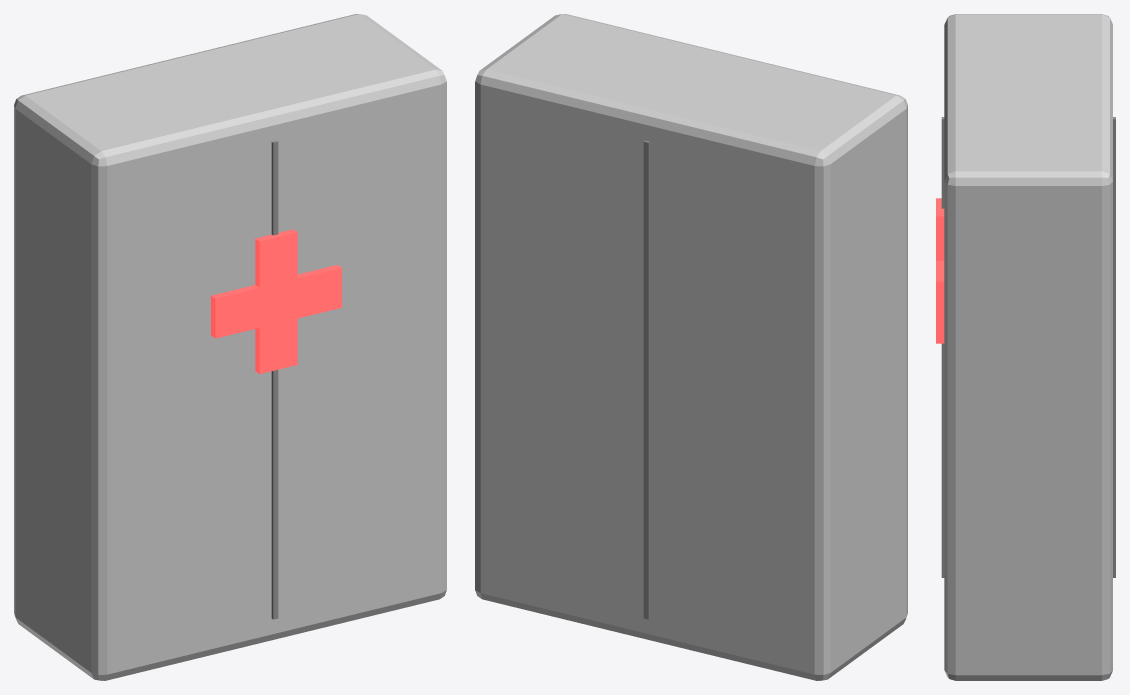
Rendered from MedCabinet.fbx.
3 views of the same model, side by side, from view 1: azimuth 30°, elevation 25°; view 2: azimuth 150°, elevation 25°; view 3: azimuth 270°, elevation 25° (orthographic). The views are drawn at different scales.
Parts seen in each view (by area): view 1: Part__Metal__e6e6e6, Part__Neon__ff3232, Part__Metal__999999; view 2: Part__Metal__e6e6e6, Part__Metal__999999; view 3: Part__Metal__e6e6e6, Part__Metal__999999, Part__Neon__ff3232.
Part boxes in pixels (box(x1,y1,x2,y2)): Part__Metal__e6e6e6: box(14, 14, 446, 680); Part__Neon__ff3232: box(211, 229, 341, 373); Part__Metal__999999: box(271, 140, 278, 619); Part__Metal__e6e6e6: box(475, 14, 907, 680); Part__Metal__999999: box(643, 140, 650, 619); Part__Metal__e6e6e6: box(944, 14, 1112, 680); Part__Metal__999999: box(941, 117, 1115, 577); Part__Neon__ff3232: box(936, 198, 944, 343).
Size of the model in its own units: 1.4 by 2 by 0.64.
